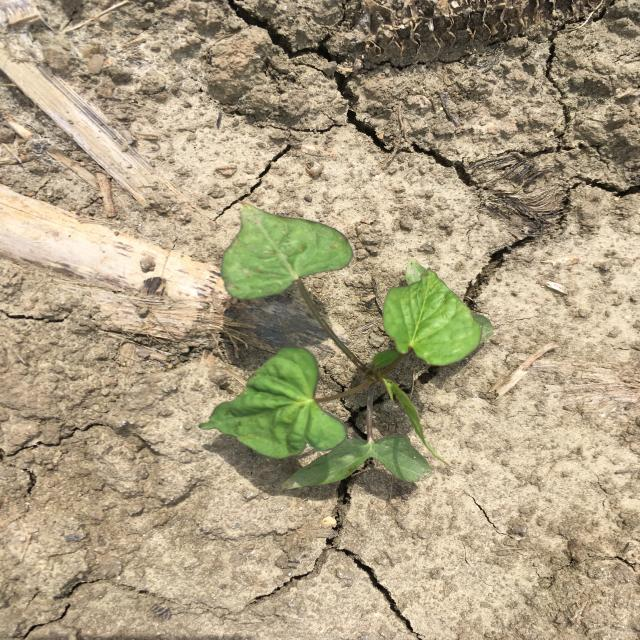MorningGlory: (200, 202, 494, 490)
